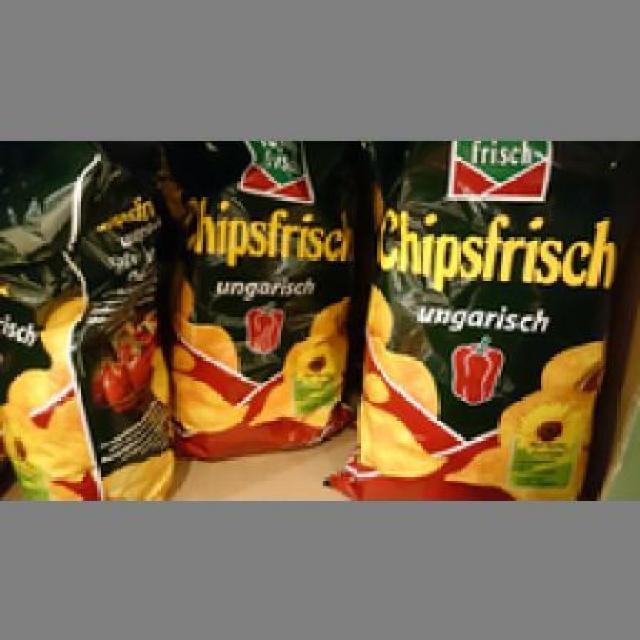Chips: (360, 143, 617, 497), (169, 143, 351, 463), (2, 157, 166, 497)
